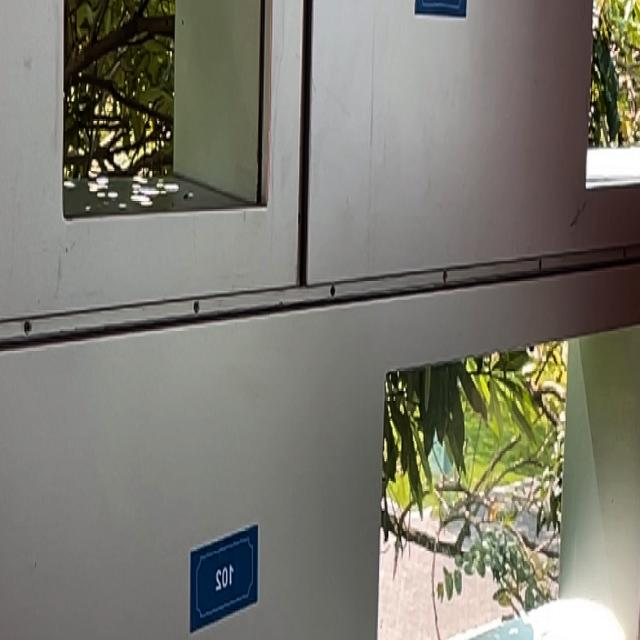Card: (185, 502, 265, 640), (408, 0, 478, 53)
